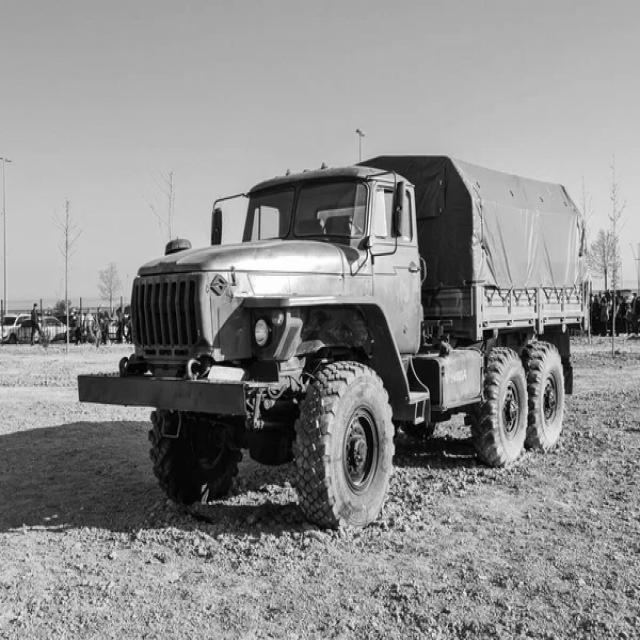Truck: (78, 157, 589, 529)
